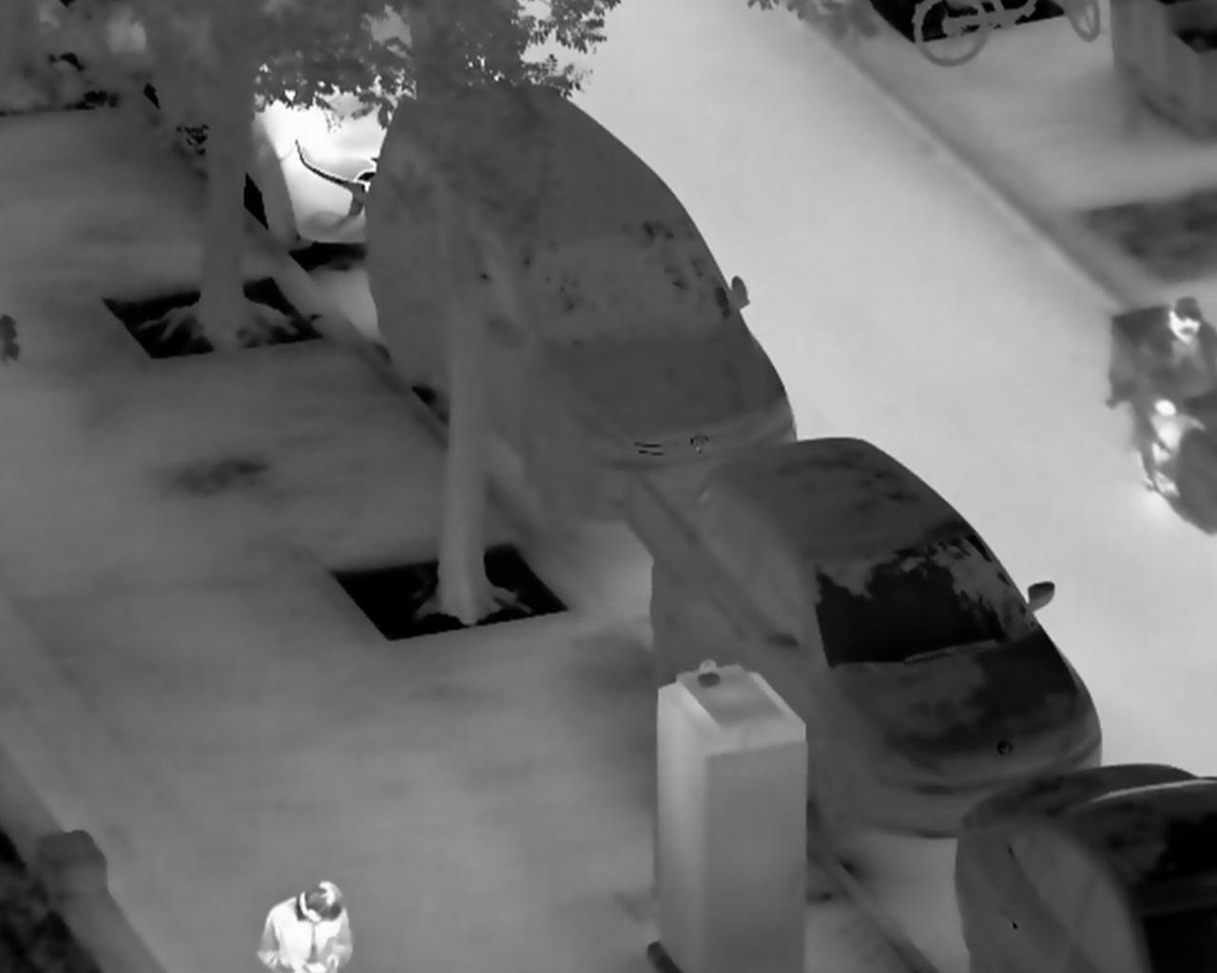person: (1140, 295, 1217, 496), (254, 875, 353, 971)
